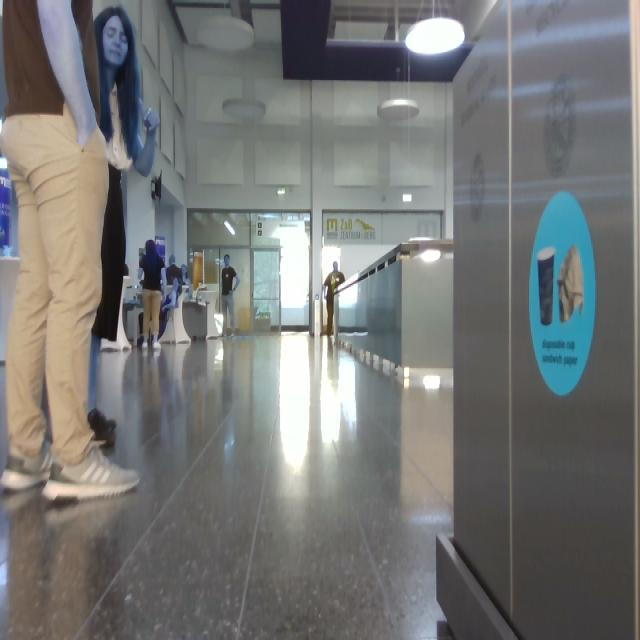light bulb: (406, 18, 465, 56), (197, 16, 253, 52), (538, 249, 554, 325), (378, 100, 419, 122), (223, 100, 265, 121)
person: (1, 1, 138, 497), (88, 8, 160, 438), (141, 241, 164, 349), (324, 262, 345, 336), (222, 256, 239, 332)
table: (161, 290, 222, 344), (124, 277, 143, 345)
tiled floor: (1, 336, 452, 640)
trash bin: (455, 1, 640, 640)
